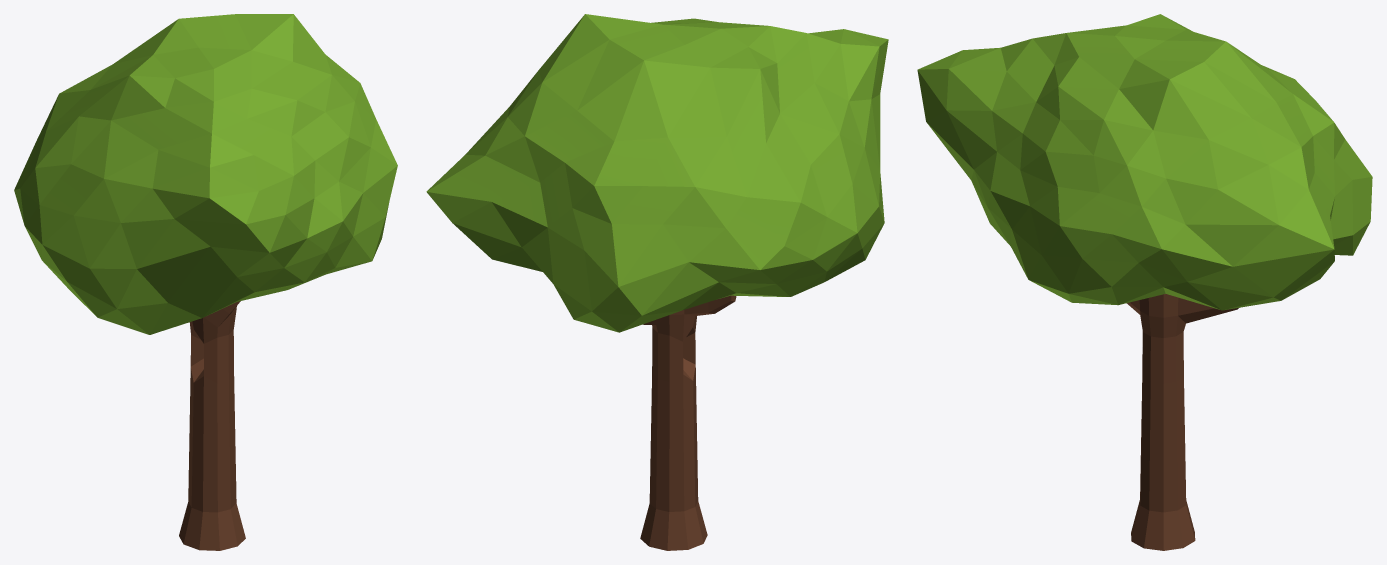
Rendered from Natures2t3-green.fbx.
3 views of the same model, side by side, from view 1: azimuth 30°, elevation 25°; view 2: azimuth 150°, elevation 25°; view 3: azimuth 270°, elevation 25° (orthographic).
Visible parts, largest first — view 1: t3-green; view 2: t3-green; view 3: t3-green.
Part boxes in pixels (left/top/right/bottom): t3-green: left=14, top=14, right=397, bottom=550; t3-green: left=426, top=14, right=888, bottom=550; t3-green: left=917, top=14, right=1372, bottom=550.
Size of the model in its own units: 651 by 923 by 764.
